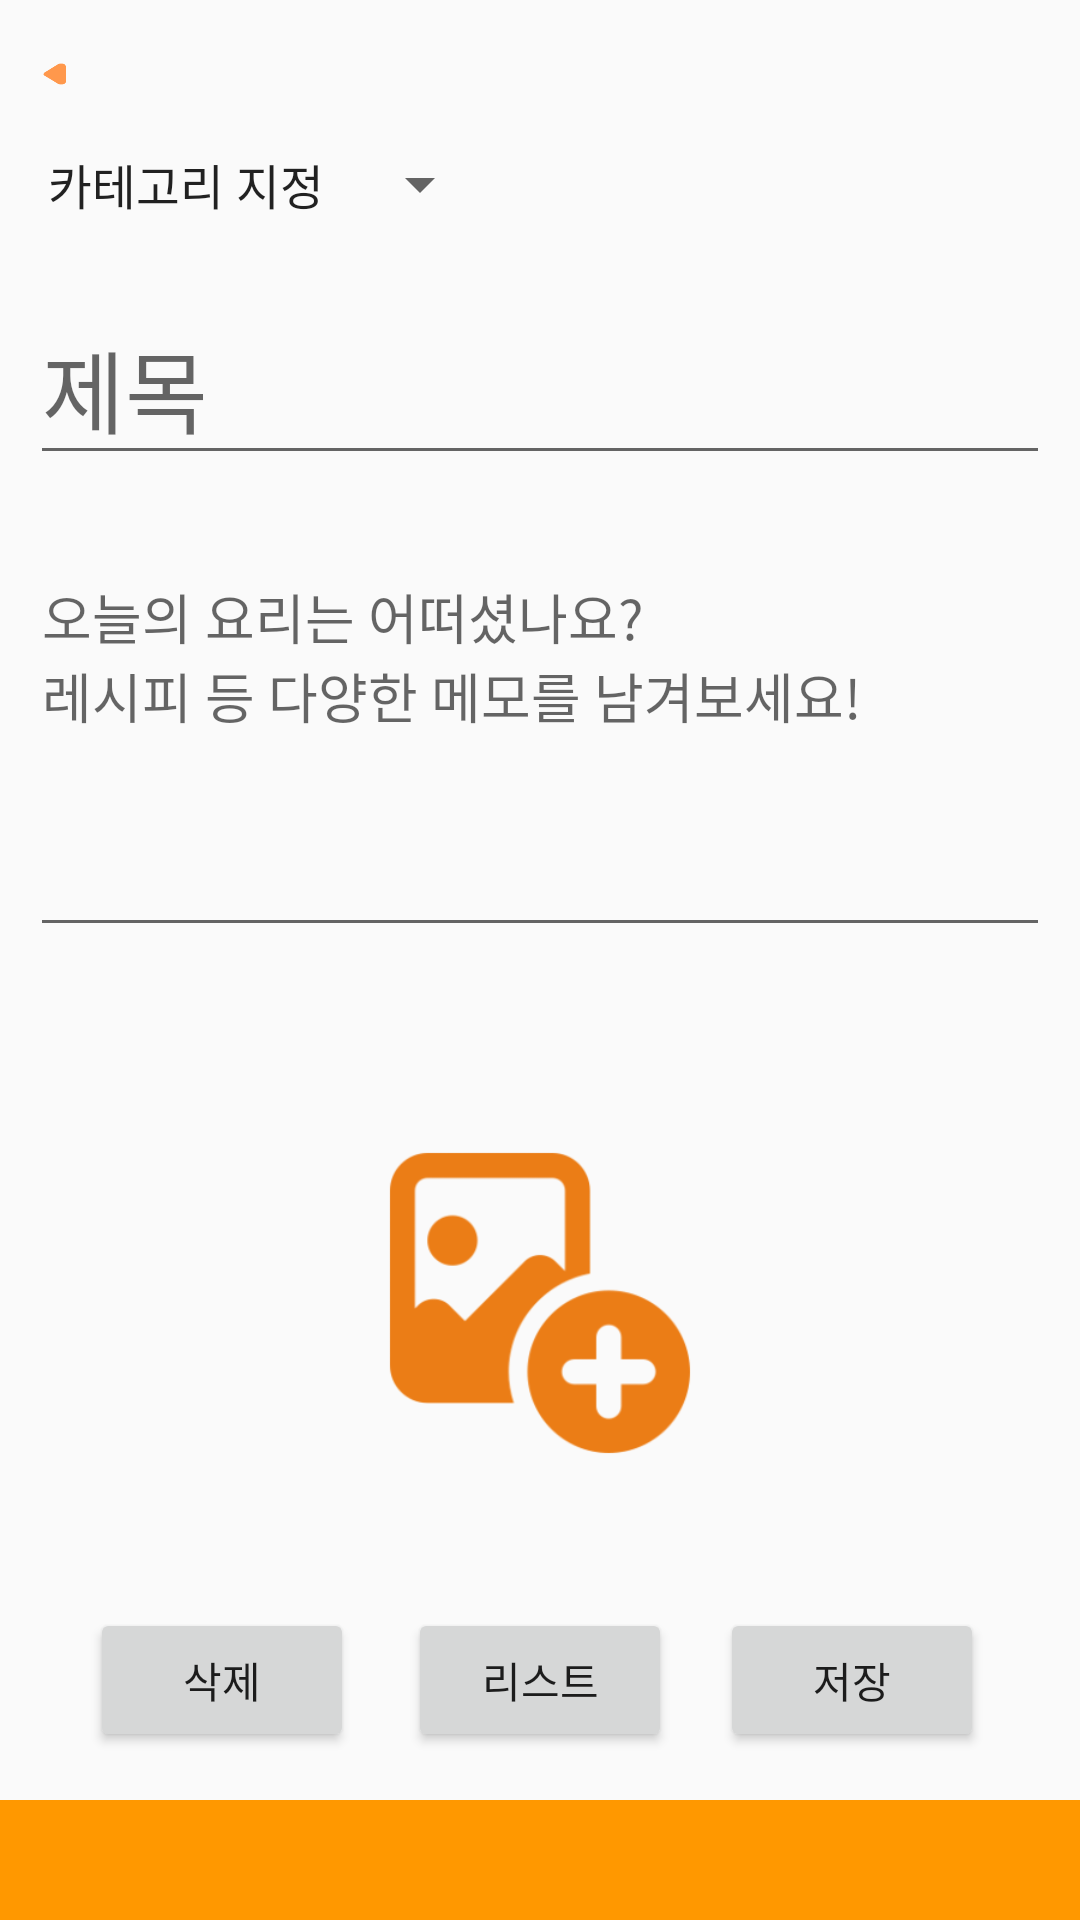

Where to tap for icons on this 1080w x 1920h app screen, as (x,y):
add: (540,1303)
